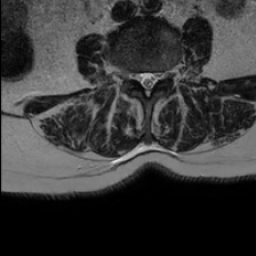CCS_normal: (143, 63, 150, 105)
LFS_normal: (158, 61, 168, 88)
LLS_normal: (150, 63, 158, 95)
RFS_stenosis: (126, 61, 135, 89)
RLS_normal: (135, 63, 143, 92)
